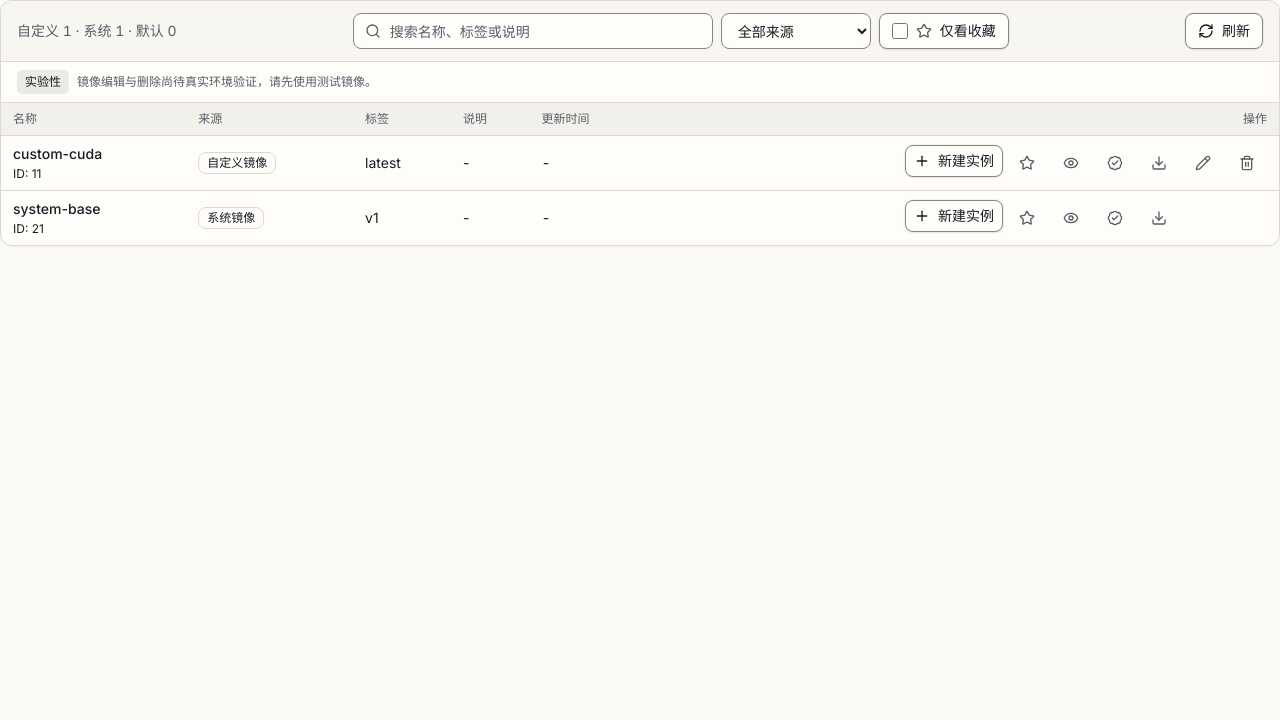
Test: ImagesPage › reports a rejected deletion while keeping the image available for retry
The width and height of the screenshot is (1280, 720).
Click the button named "删除镜像 custom-cuda".
click(1247, 163)  # box 1227,145 -> 1267,181
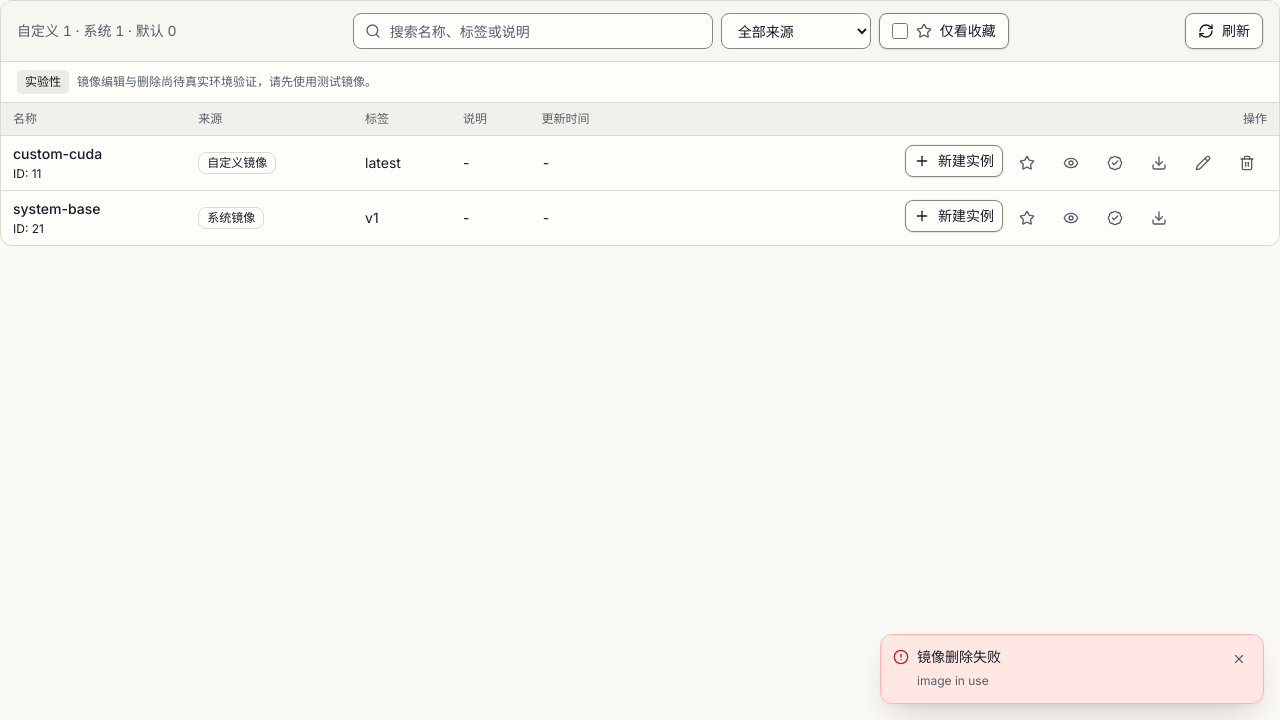
Check: the text "custom-cuda" is shown, box 13,144 -> 102,164
Check: the text "image in use" is shown, box 917,673 -> 989,688
